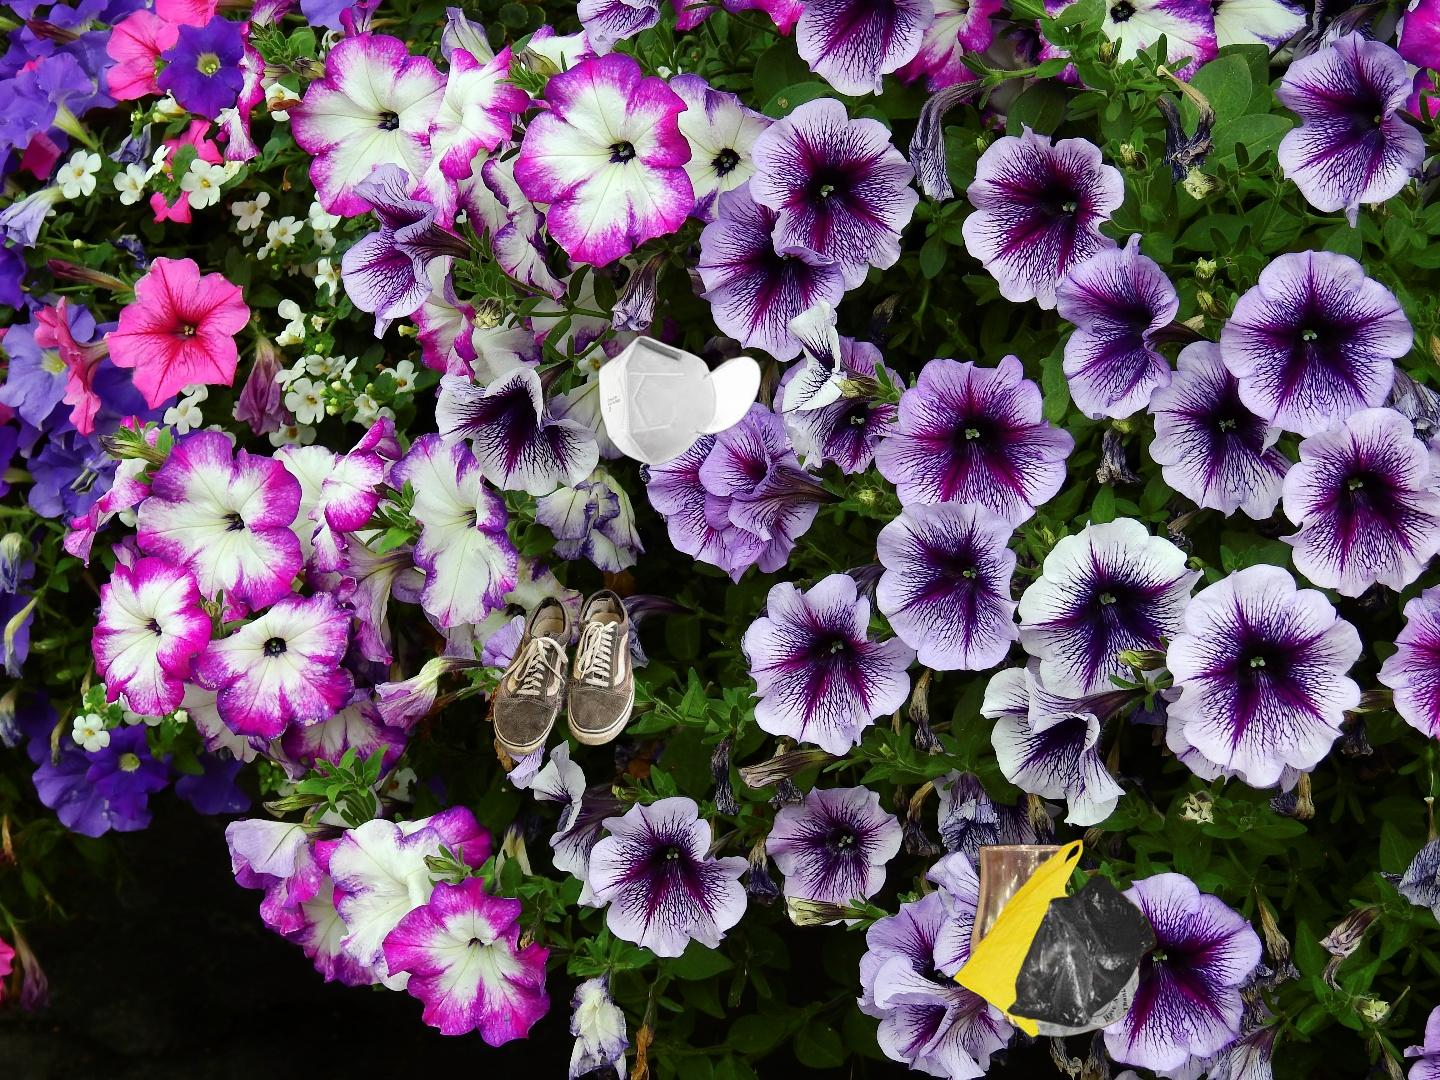plastic-bag: (949, 837, 1160, 1041)
shoes: (490, 587, 638, 759)
trash: (596, 334, 764, 469), (1388, 940, 1440, 1080)
